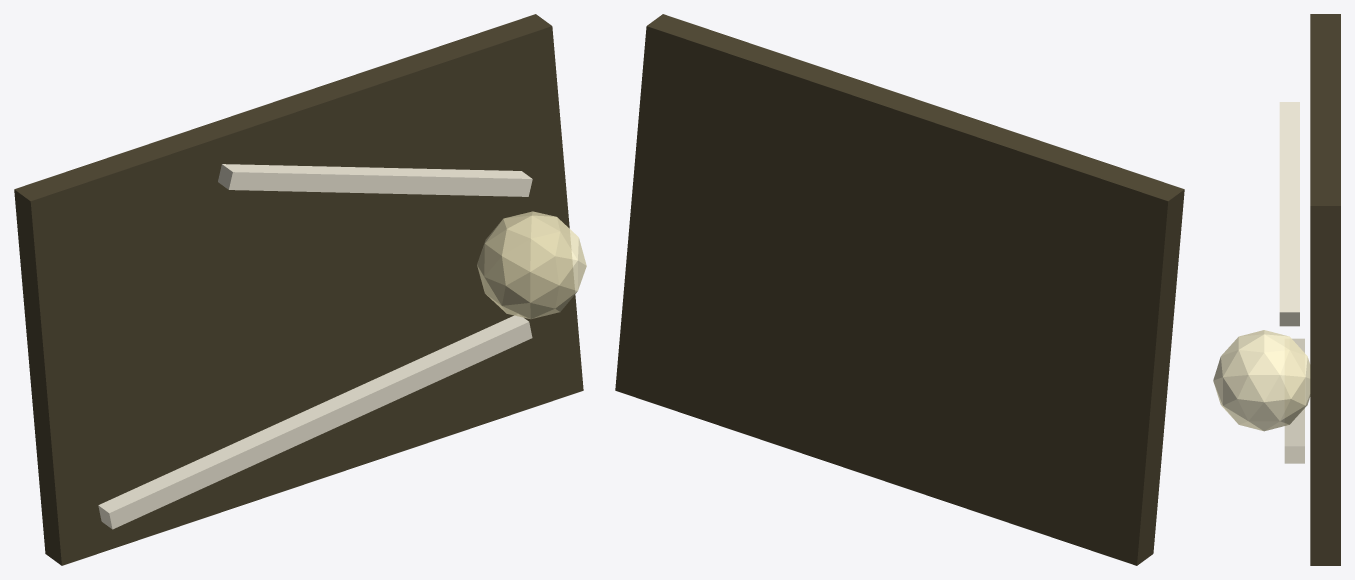
Rendered from 02_world_prop_polish.glb.
The picture shows the model from 3 angles, left to right: view 1: azimuth 30°, elevation 25°; view 2: azimuth 150°, elevation 25°; view 3: azimuth 270°, elevation 25°; orthographic projection. The views are drawn at different scales.
Visible parts, largest first — view 1: object_overlay_plate, edge_wear_a, glow_socket, edge_wear_b; view 2: object_overlay_plate; view 3: object_overlay_plate, glow_socket, edge_wear_b, edge_wear_a.
Part boxes in pixels (bbox=[...]): object_overlay_plate: bbox=[14, 14, 583, 565]; edge_wear_a: bbox=[98, 314, 532, 529]; glow_socket: bbox=[477, 211, 586, 319]; edge_wear_b: bbox=[218, 164, 532, 196]; object_overlay_plate: bbox=[615, 14, 1184, 565]; object_overlay_plate: bbox=[1310, 14, 1340, 565]; glow_socket: bbox=[1213, 330, 1310, 431]; edge_wear_b: bbox=[1279, 102, 1299, 326]; edge_wear_a: bbox=[1284, 338, 1304, 463].
Size of the model in its own units: 1.16 by 0.8435 by 0.25.
